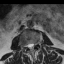CCS_normal: (30, 40, 32, 53)
LFS_normal: (34, 40, 37, 47)
LLS_normal: (32, 41, 34, 51)
RFS_normal: (25, 41, 27, 50)
RLS_normal: (27, 41, 30, 51)
